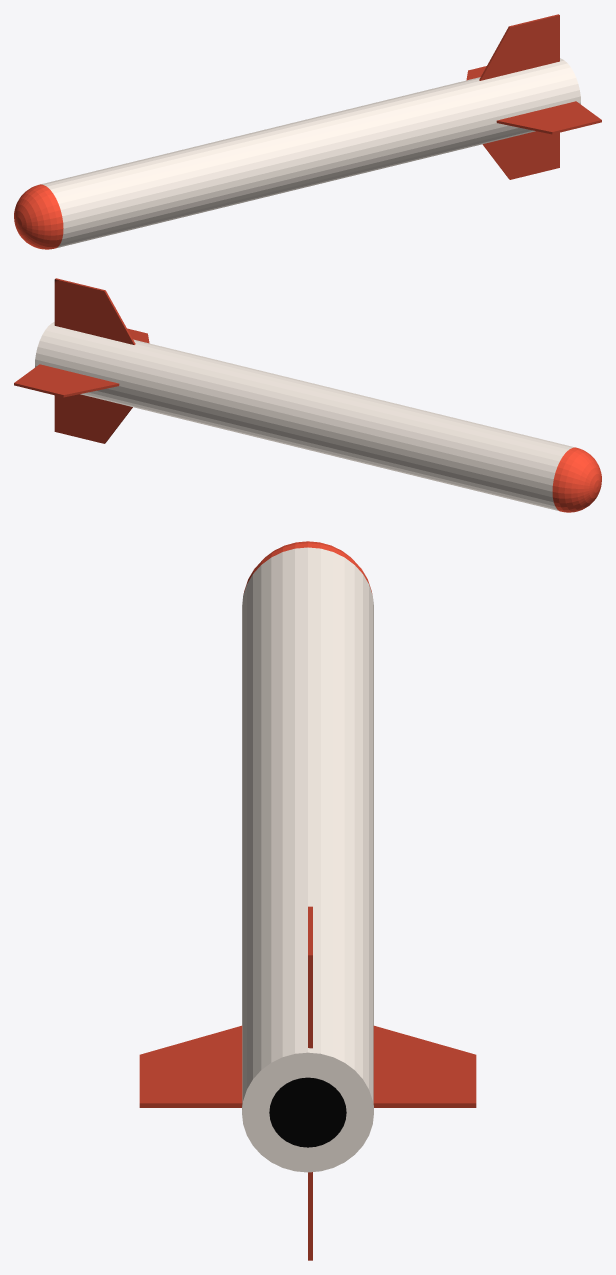
Rendered from missile.obj.
3 views of the same model, one above another, from view 1: azimuth 30°, elevation 25°; view 2: azimuth 150°, elevation 25°; view 3: azimuth 270°, elevation 25° (orthographic). The views are drawn at different scales.
Parts seen in each view (by area): view 1: 球; view 2: 球; view 3: 球.
Boxes of the visible parts, box(x1,y1,x2,y2) form: 球: box(14, 14, 601, 249); 球: box(14, 278, 601, 512); 球: box(139, 541, 476, 1260).
Bounding box in the file's own units: 3.74 × 0.9994 × 0.9994.
Materials: 1 (1 with a texture image).
